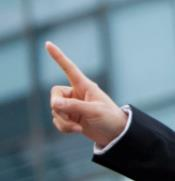up: (46, 39, 110, 143)
